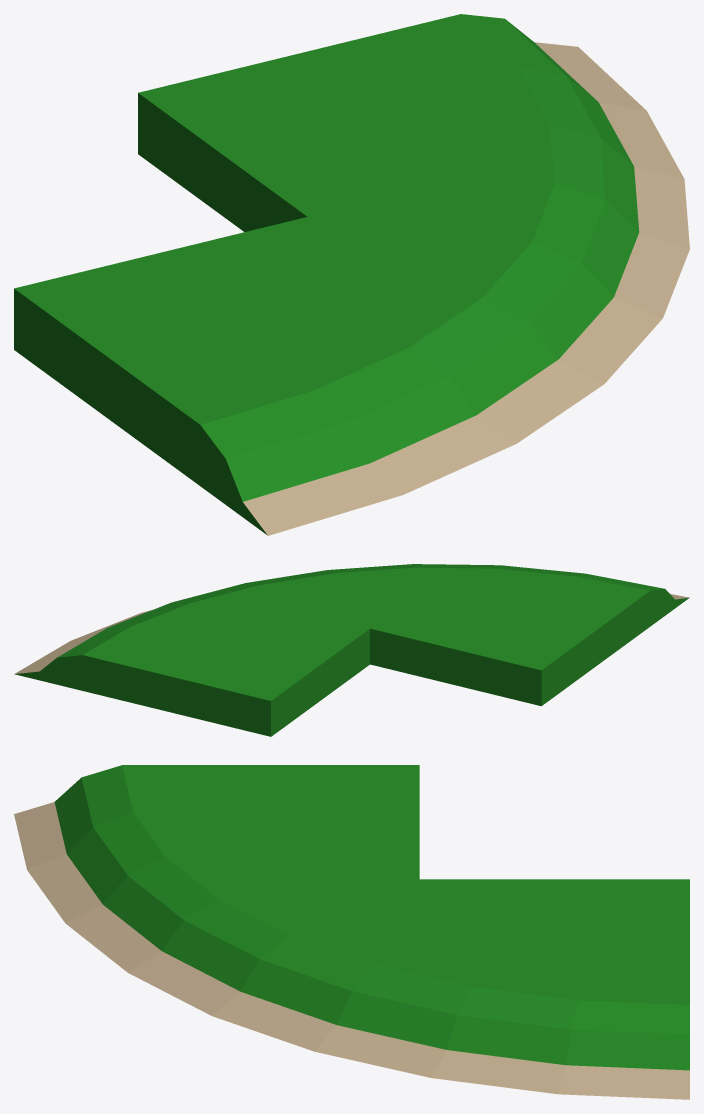
File: path_edge_corner_inner_x2.obj
3 views of the same model, one above another, from view 1: azimuth 30°, elevation 25°; view 2: azimuth 150°, elevation 25°; view 3: azimuth 270°, elevation 25° (orthographic). The views are drawn at different scales.
Visible parts, largest first — view 1: 2Inner.001_Circle.014; view 2: 2Inner.001_Circle.014; view 3: 2Inner.001_Circle.014.
Part boxes in pixels (<box>): 2Inner.001_Circle.014: <box>14,14,689,535</box>; 2Inner.001_Circle.014: <box>14,564,689,736</box>; 2Inner.001_Circle.014: <box>14,765,689,1099</box>.
Bounding box in the file's own units: 2.5 × 0.2 × 2.5.
